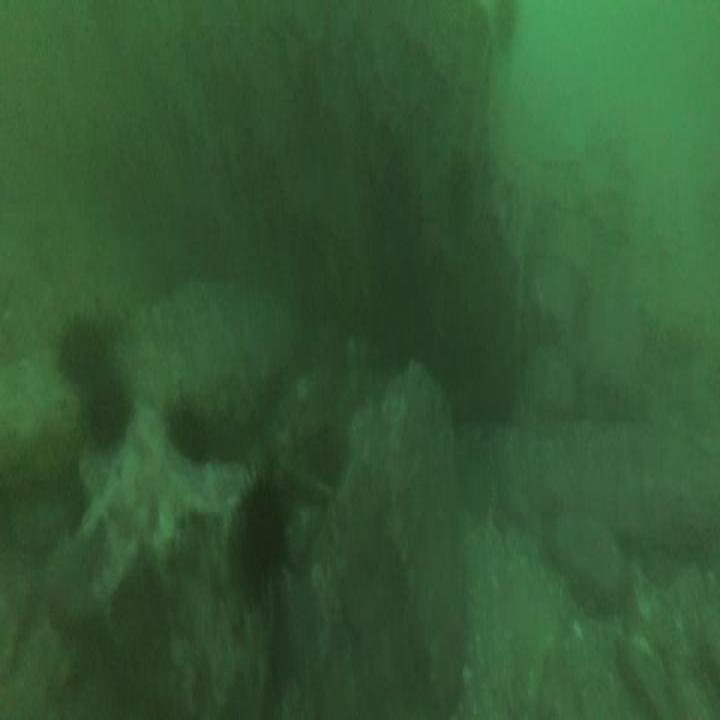echinus: (236, 487, 284, 580), (86, 375, 128, 445), (59, 315, 101, 382), (169, 404, 209, 458)
